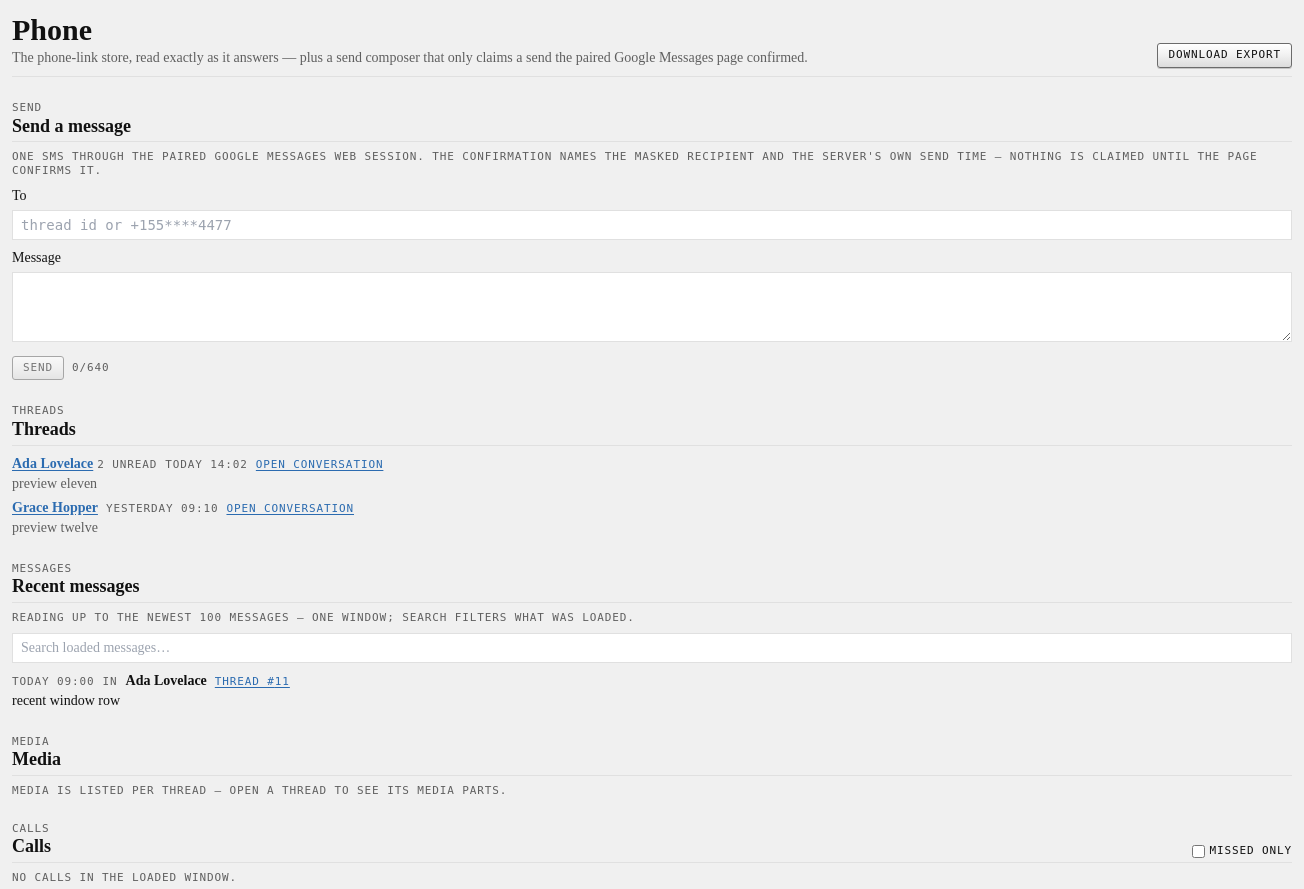
phone thread view — loading / empty / refusal / unavailable › states an empty thread by name — no fabricated rows, no window note
The width and height of the screenshot is (1304, 889).
Click the button with aria-label "Open conversation with Ada Lovelace".
click(320, 464)  # box [256,458,383,471]
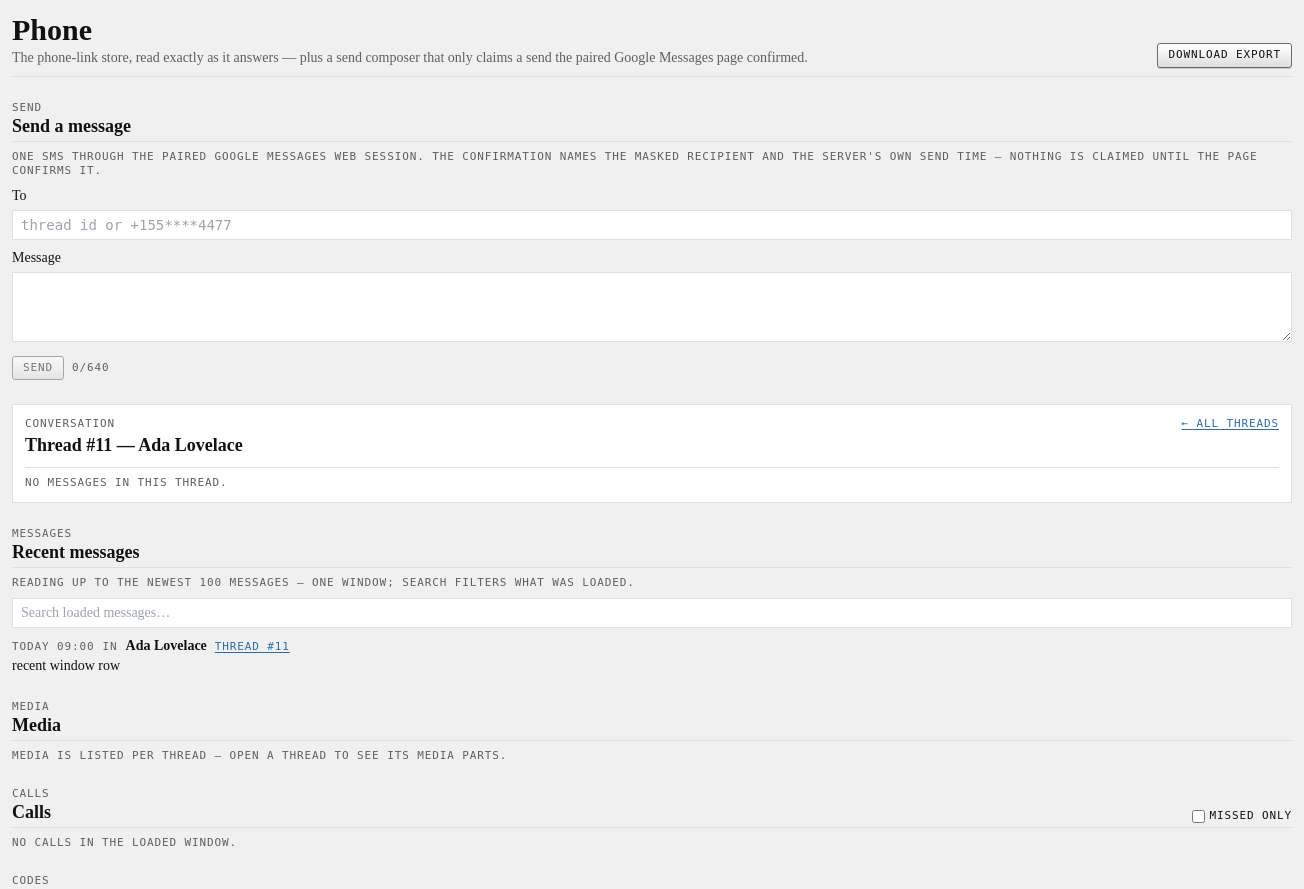
Expected: the text with test id "phone-thread-empty" reads "No messages in this thread.", [25,476,228,489]
